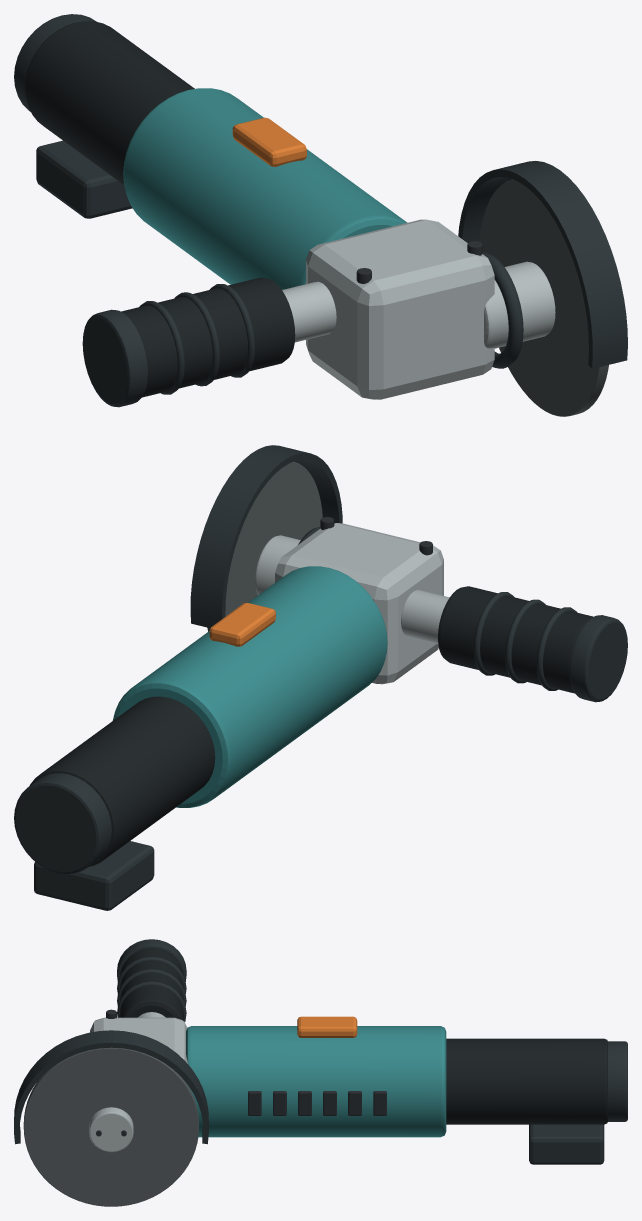
The model's file is city-handheld-angle-grinder.glb.
3 renders of one model, top to bottom at view 1: azimuth 30°, elevation 25°; view 2: azimuth 150°, elevation 25°; view 3: azimuth 270°, elevation 25°, orthographic. The views are drawn at different scales.
Parts seen in each view (by area): view 1: Assembly | Satin tool steel, Assembly | Muted teal molded tool body, Assembly | Soft black grip rubber, Assembly | Graphite tool overmold, Assembly | Plain abrasive wheel, Assembly | Unbranded orange controls; view 2: Assembly | Muted teal molded tool body, Assembly | Graphite tool overmold, Assembly | Soft black grip rubber, Assembly | Satin tool steel, Assembly | Plain abrasive wheel, Assembly | Unbranded orange controls; view 3: Assembly | Muted teal molded tool body, Assembly | Plain abrasive wheel, Assembly | Soft black grip rubber, Assembly | Graphite tool overmold, Assembly | Satin tool steel, Assembly | Dark recess and fasteners, Assembly | Unbranded orange controls.
Part boxes in pixels (bbox=[...]): Assembly | Satin tool steel: bbox=[282, 219, 555, 399]; Assembly | Muted teal molded tool body: bbox=[123, 88, 407, 289]; Assembly | Soft black grip rubber: bbox=[25, 21, 295, 397]; Assembly | Graphite tool overmold: bbox=[14, 14, 627, 407]; Assembly | Plain abrasive wheel: bbox=[480, 179, 608, 416]; Assembly | Unbranded orange controls: bbox=[232, 117, 306, 166]; Assembly | Muted teal molded tool body: bbox=[112, 566, 387, 807]; Assembly | Graphite tool overmold: bbox=[14, 445, 627, 910]; Assembly | Soft black grip rubber: bbox=[29, 586, 593, 866]; Assembly | Satin tool steel: bbox=[255, 523, 449, 684]; Assembly | Plain abrasive wheel: bbox=[207, 461, 322, 631]; Assembly | Unbranded orange controls: bbox=[209, 603, 275, 646]; Assembly | Muted teal molded tool body: bbox=[186, 1026, 446, 1137]; Assembly | Plain abrasive wheel: bbox=[23, 1047, 198, 1206]; Assembly | Soft black grip rubber: bbox=[119, 948, 607, 1124]; Assembly | Graphite tool overmold: bbox=[14, 939, 627, 1164]; Assembly | Satin tool steel: bbox=[89, 1012, 187, 1152]; Assembly | Dark recess and fasteners: bbox=[96, 1009, 386, 1136]; Assembly | Unbranded orange controls: bbox=[297, 1016, 357, 1037].
Size of the model in its own units: 0.26 by 0.133 by 0.441.
